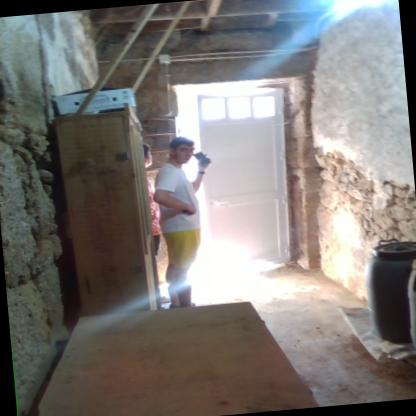semi: (152, 56, 336, 300)
